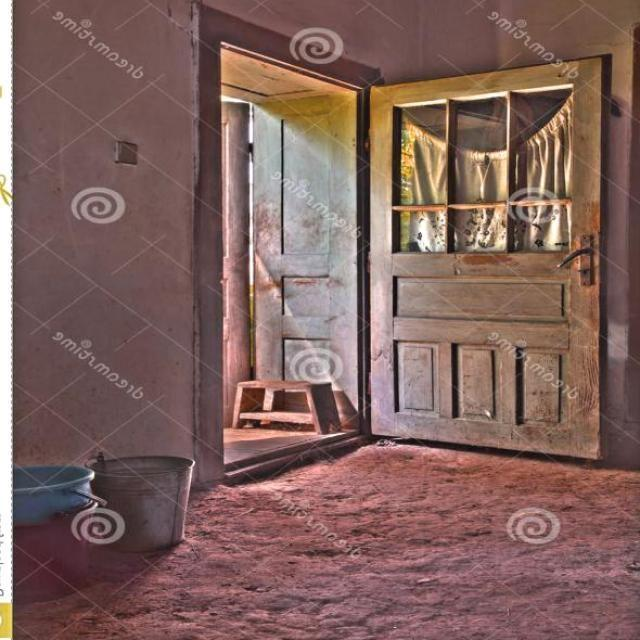door: (365, 53, 606, 460)
